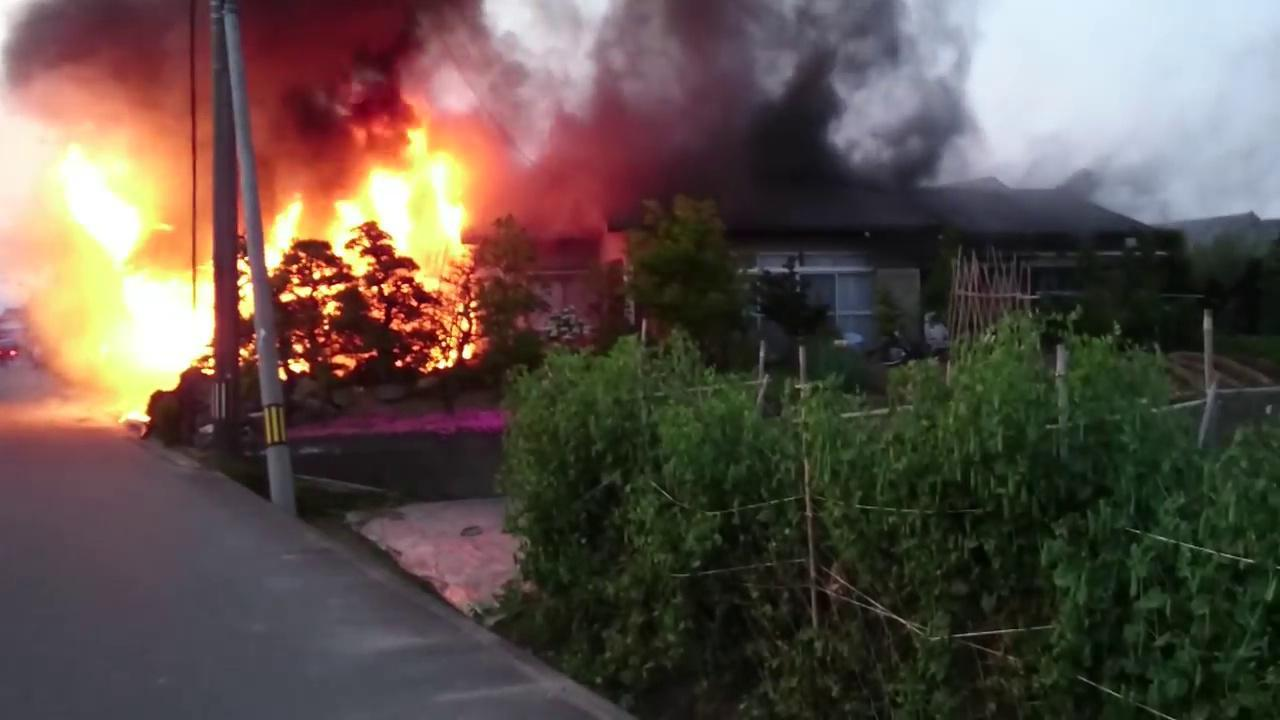Fire: (29, 131, 215, 428), (267, 130, 489, 319), (424, 302, 482, 374), (278, 337, 318, 382), (233, 258, 258, 320), (331, 350, 383, 378), (238, 334, 261, 368)
